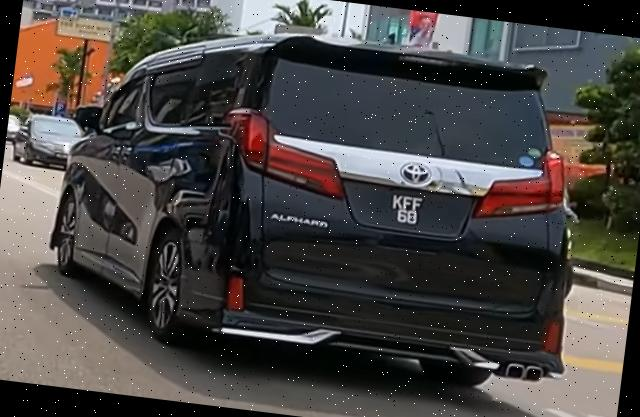License_Plate: (357, 186, 465, 236)
car: (38, 4, 604, 400)
